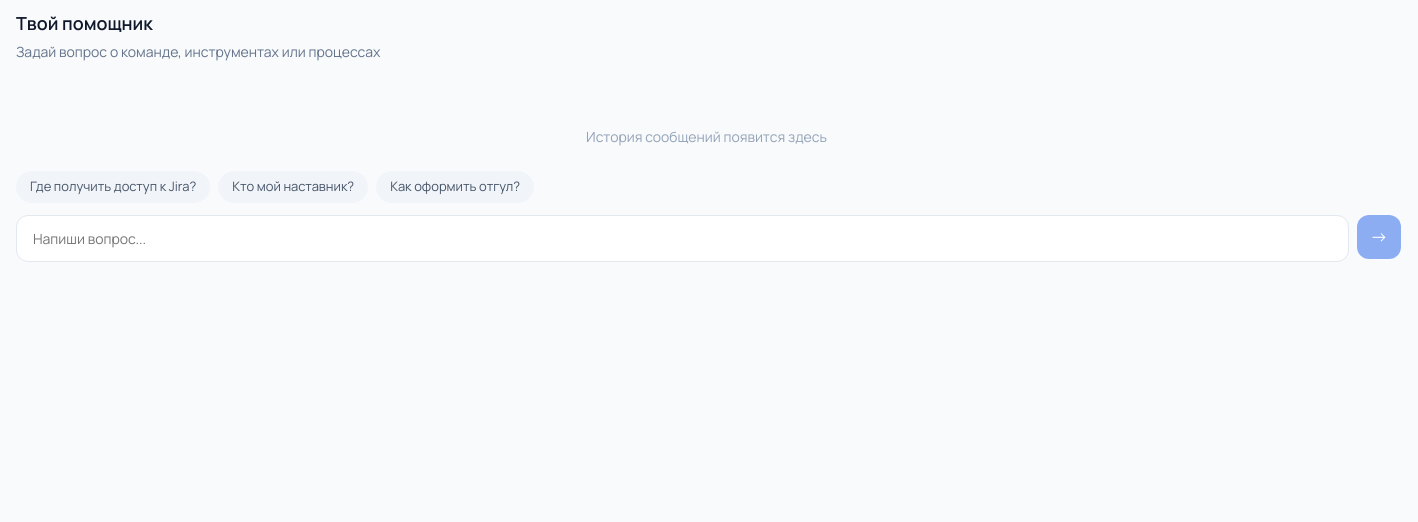
ChatPanel › рендерит карточку отгула после ответа на вопрос про отгул
Type "Как оформить отгул?" into the field with placeholder "Напиши вопрос...". click: (682, 238)
box: [16,214,1349,262]
Then press Enter
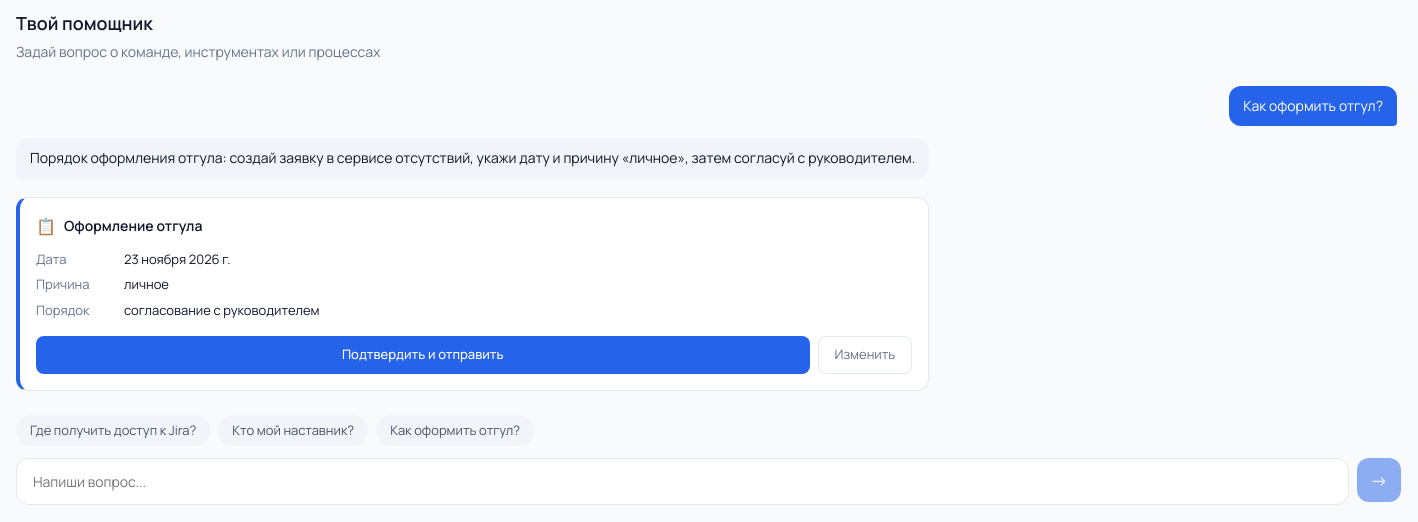
expect the text "Оформление отгула" is shown: met, box [64,215,202,236]
expect the button "Подтвердить и отправить" is shown: met, box [36,336,810,374]
